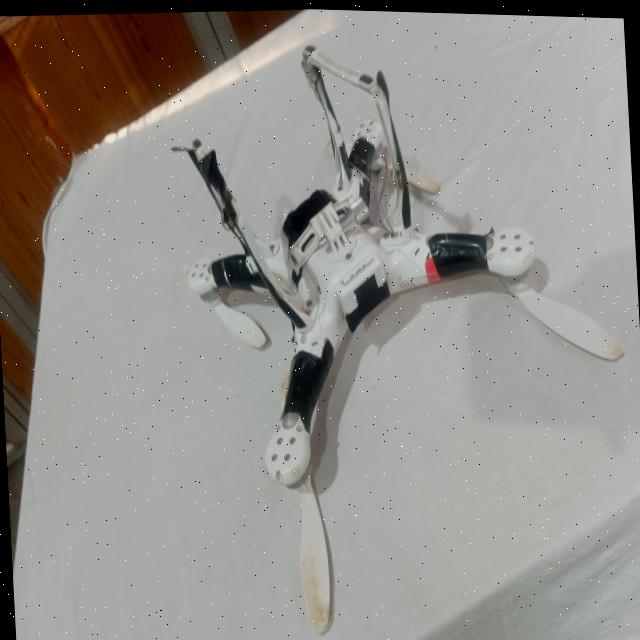drone: (106, 13, 640, 640)
